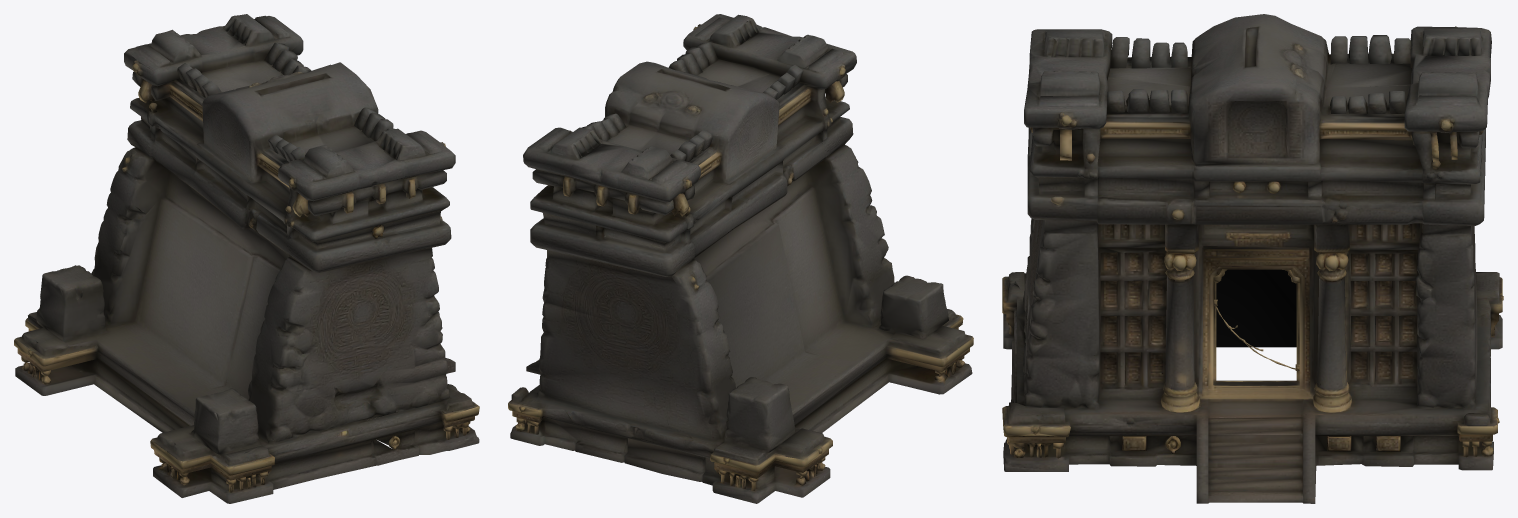
File: ch7_archive_facade_LOD0.glb
The picture shows the model from 3 angles, left to right: view 1: azimuth 30°, elevation 25°; view 2: azimuth 150°, elevation 25°; view 3: azimuth 270°, elevation 25°; orthographic projection. The views are drawn at different scales.
Parts seen in each view (by area): view 1: tripo_node_483b1887-9006-4e64-bec1-bd8683a9b88a; view 2: tripo_node_483b1887-9006-4e64-bec1-bd8683a9b88a; view 3: tripo_node_483b1887-9006-4e64-bec1-bd8683a9b88a.
Boxes of the visible parts, bbox=[...] form: tripo_node_483b1887-9006-4e64-bec1-bd8683a9b88a: bbox=[14, 14, 479, 503]; tripo_node_483b1887-9006-4e64-bec1-bd8683a9b88a: bbox=[508, 14, 973, 503]; tripo_node_483b1887-9006-4e64-bec1-bd8683a9b88a: bbox=[1002, 14, 1503, 503].
Size of the model in its own units: 0.9473 by 0.8262 by 0.998.
Materials: 1 (1 with a texture image).
